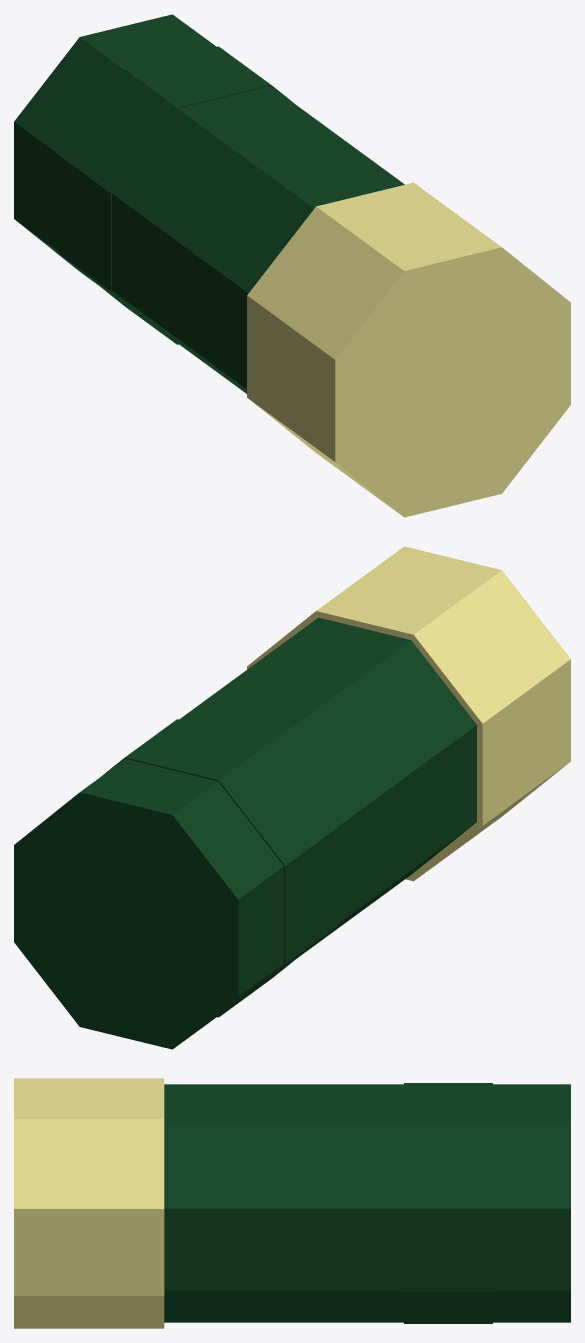
File: ce_ammo_shotgun_slug_a.obj
3 views of the same model, one above another, from view 1: azimuth 30°, elevation 25°; view 2: azimuth 150°, elevation 25°; view 3: azimuth 270°, elevation 25° (orthographic). The views are drawn at different scales.
Parts seen in each view (by area): view 1: ce_ammo_shotgun_slug_a_0, ce_ammo_shotgun_slug_a_1, ce_ammo_shotgun_slug_a_2, ce_ammo_shotgun_slug_a_3; view 2: ce_ammo_shotgun_slug_a_3, ce_ammo_shotgun_slug_a_1, ce_ammo_shotgun_slug_a_0, ce_ammo_shotgun_slug_a_2; view 3: ce_ammo_shotgun_slug_a_1, ce_ammo_shotgun_slug_a_0, ce_ammo_shotgun_slug_a_2, ce_ammo_shotgun_slug_a_3.
Part boxes in pixels (left/top/right/bottom): ce_ammo_shotgun_slug_a_0: left=247, top=182, right=570, bottom=517; ce_ammo_shotgun_slug_a_1: left=112, top=86, right=404, bottom=393; ce_ammo_shotgun_slug_a_2: left=58, top=46, right=293, bottom=344; ce_ammo_shotgun_slug_a_3: left=14, top=14, right=216, bottom=283; ce_ammo_shotgun_slug_a_3: left=14, top=759, right=283, bottom=1049; ce_ammo_shotgun_slug_a_1: left=179, top=617, right=476, bottom=956; ce_ammo_shotgun_slug_a_0: left=247, top=546, right=570, bottom=881; ce_ammo_shotgun_slug_a_2: left=102, top=719, right=337, bottom=1017; ce_ammo_shotgun_slug_a_1: left=164, top=1084, right=403, bottom=1322; ce_ammo_shotgun_slug_a_0: left=14, top=1078, right=164, bottom=1328; ce_ammo_shotgun_slug_a_2: left=404, top=1083, right=492, bottom=1323; ce_ammo_shotgun_slug_a_3: left=493, top=1084, right=570, bottom=1322.
Bounding box in the file's own units: 0.1746 × 0.1746 × 0.42.
